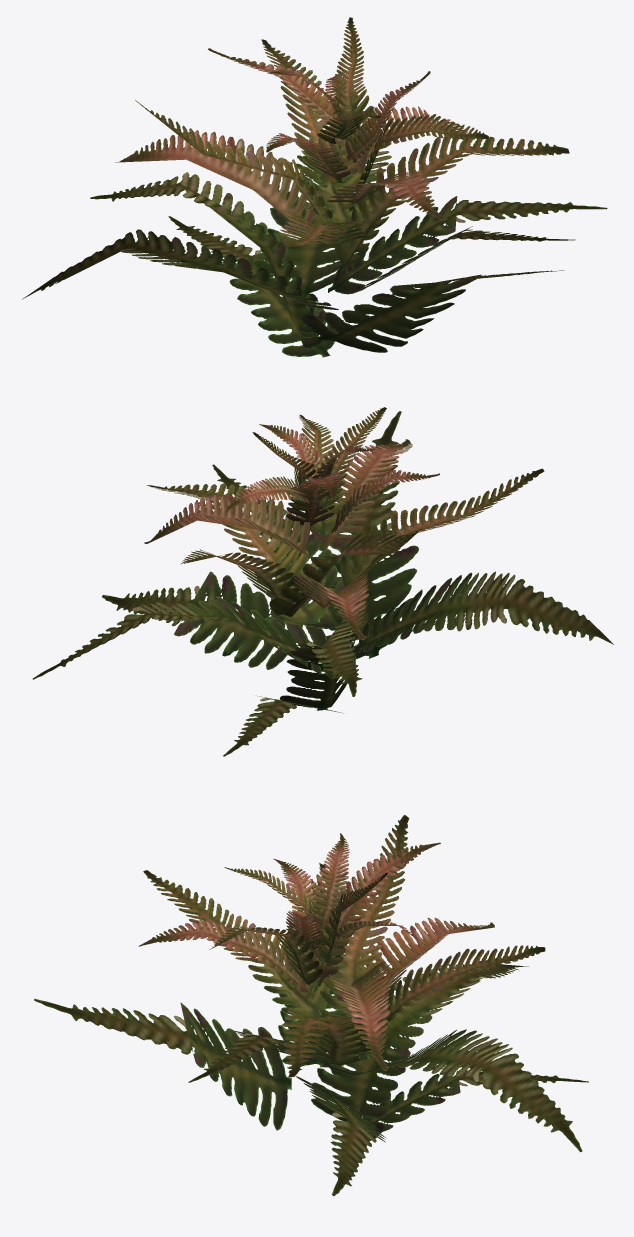
File: zshh_zhiwu_02.FBX
3 renders of one model, top to bottom at view 1: azimuth 30°, elevation 25°; view 2: azimuth 150°, elevation 25°; view 3: azimuth 270°, elevation 25°, orthographic. The views are drawn at different scales.
Visible parts, largest first — view 1: zshh_zhiwu_02; view 2: zshh_zhiwu_02; view 3: zshh_zhiwu_02.
Boxes of the visible parts, bbox=[...] form: zshh_zhiwu_02: bbox=[22, 17, 607, 357]; zshh_zhiwu_02: bbox=[32, 407, 613, 756]; zshh_zhiwu_02: bbox=[34, 815, 588, 1195].
Bounding box in the file's own units: 117 × 115 × 62.35.
